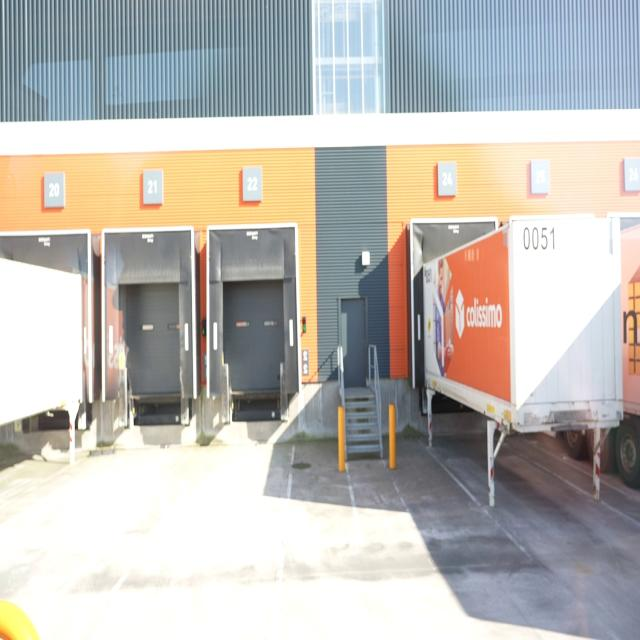Code: (520, 222, 560, 253)
